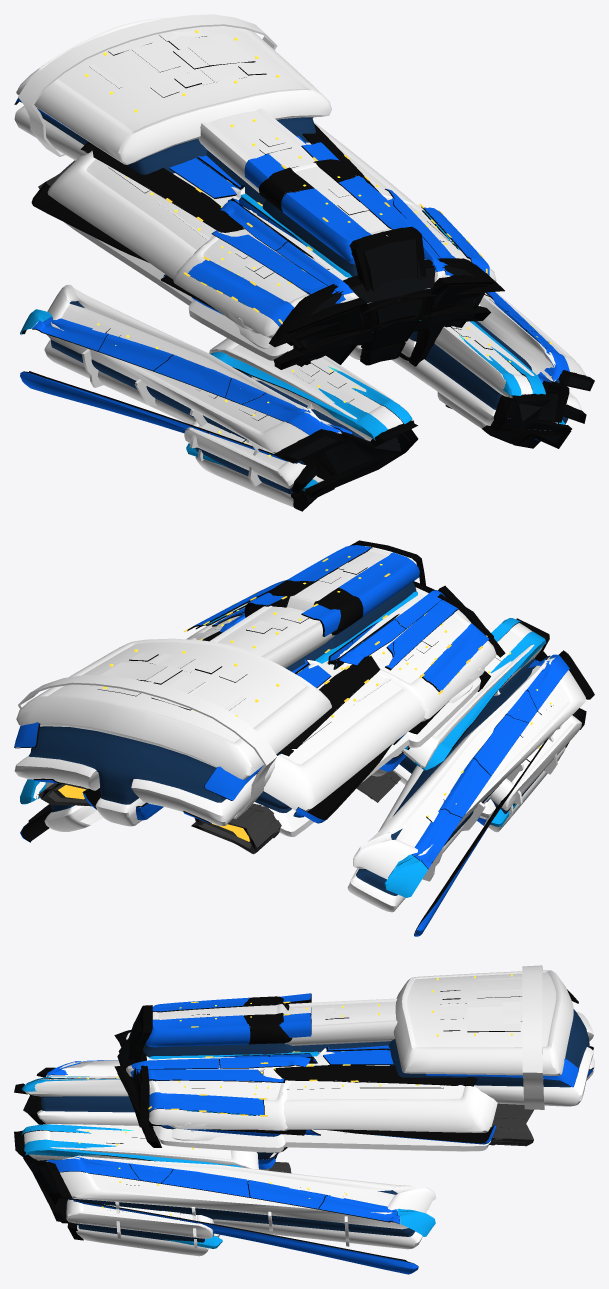
3 renders of one model, top to bottom at view 1: azimuth 30°, elevation 25°; view 2: azimuth 150°, elevation 25°; view 3: azimuth 270°, elevation 25°, orthographic. The views are drawn at different scales.
Parts seen in each view (by area): view 1: mat, detail, base, glass, panel, color2, emit; view 2: mat, detail, base, glass, color2, panel, emit; view 3: mat, base, detail, glass, panel, color2, emit.
Part boxes in pixels (x1,y1,x2,y2): mat: (14, 14, 586, 506); detail: (58, 26, 569, 468); base: (14, 97, 569, 463); glass: (36, 113, 591, 503); panel: (15, 35, 594, 511); color2: (20, 124, 565, 491); emit: (85, 30, 551, 456); mat: (14, 548, 586, 912); detail: (48, 551, 571, 847); base: (14, 545, 569, 936); glass: (21, 582, 579, 915); color2: (20, 580, 546, 897); panel: (14, 540, 594, 935); emit: (58, 556, 551, 841); mat: (24, 965, 594, 1256); base: (47, 993, 593, 1274); detail: (50, 972, 556, 1222); glass: (23, 998, 590, 1257); panel: (14, 989, 593, 1274); color2: (22, 996, 476, 1248); emit: (78, 974, 512, 1215).
Size of the model in its own units: 1.92 by 1.2 by 2.95.
